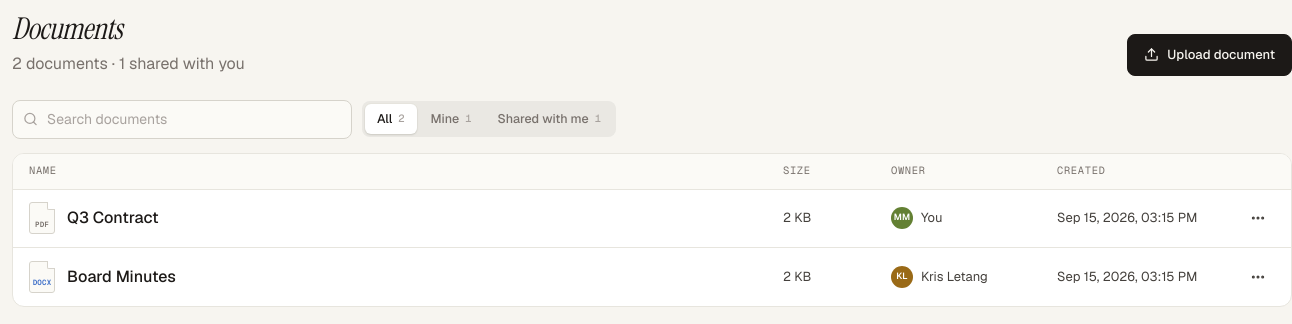
Scenario: Finding a document › narrows the list by search
The width and height of the screenshot is (1292, 324).
In the field labelled "Search documents": (182, 119) [12,100,352,139], type "board"
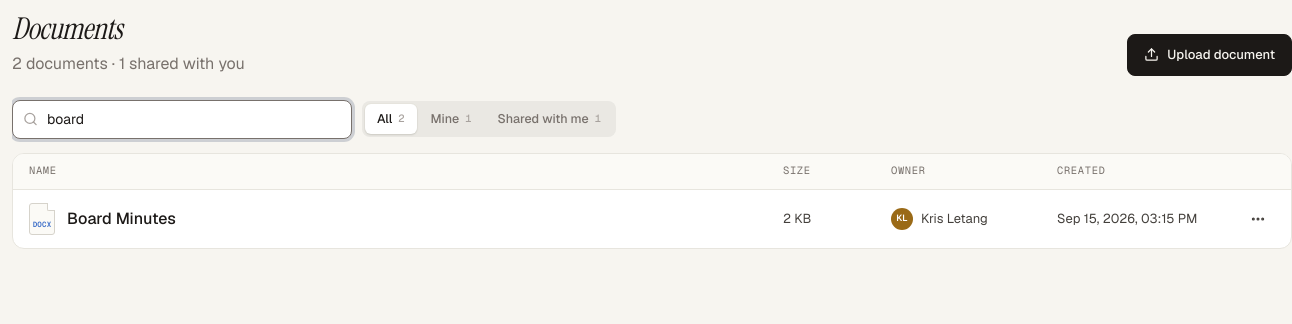
Expected: the link "Board Minutes" is shown, [67,208,176,229]
Now the link "Q3 Contract" is gone
